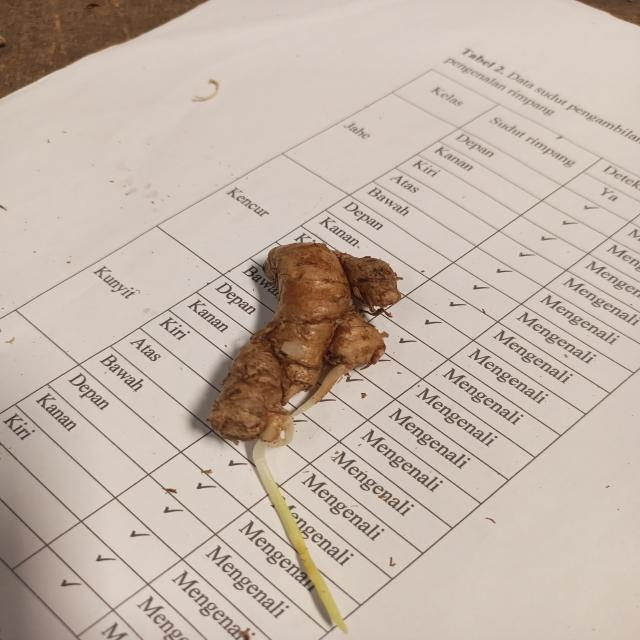ginger: (220, 239, 400, 432)
